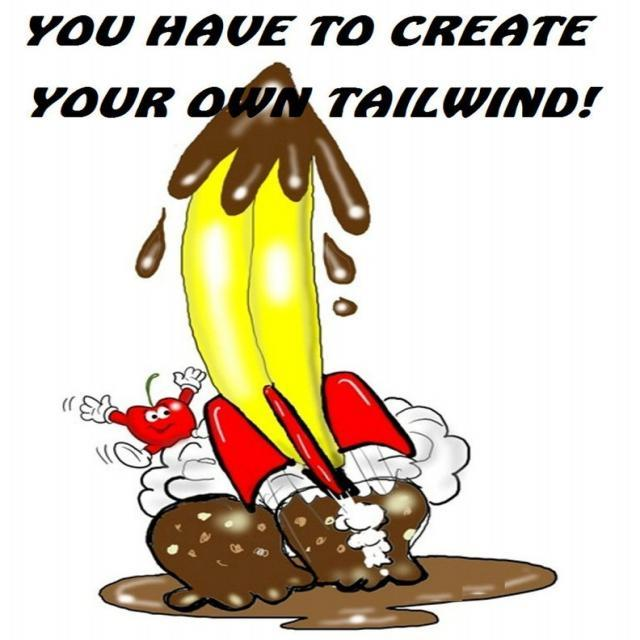Banana: (175, 146, 334, 468)
